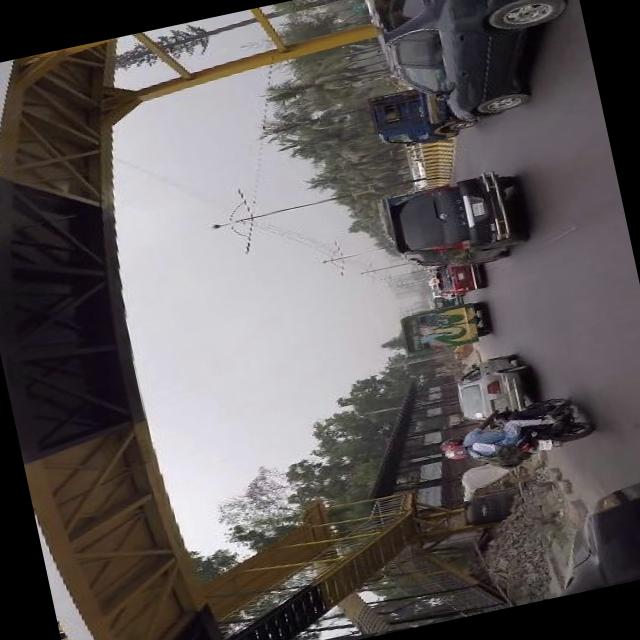bus: (390, 298, 495, 359)
car: (357, 0, 586, 136), (439, 348, 536, 428), (427, 259, 486, 298), (420, 273, 460, 306), (402, 160, 429, 189)
motorcycle: (492, 386, 598, 466)
truck: (381, 165, 536, 282), (528, 464, 640, 598), (359, 73, 465, 158)
